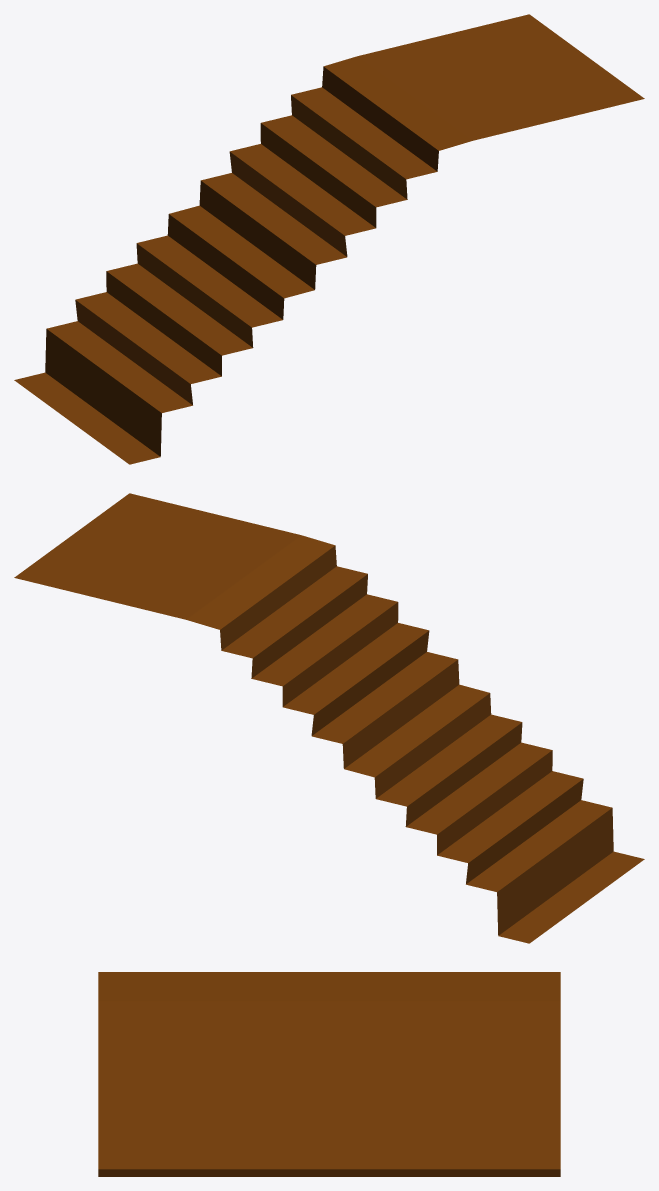
The model's file is Stairs GF2FF.fbx.
The picture shows the model from 3 angles, top to bottom: view 1: azimuth 30°, elevation 25°; view 2: azimuth 150°, elevation 25°; view 3: azimuth 270°, elevation 25°; orthographic projection. The views are drawn at different scales.
Visible parts, largest first — view 1: stairs.001; view 2: stairs.001; view 3: stairs.001.
Boxes of the visible parts, <box> form: stairs.001: <box>14,14,644,464</box>; stairs.001: <box>14,493,644,943</box>; stairs.001: <box>98,972,560,1176</box>.
Bounding box in the file's own units: 684 × 304 × 266.
